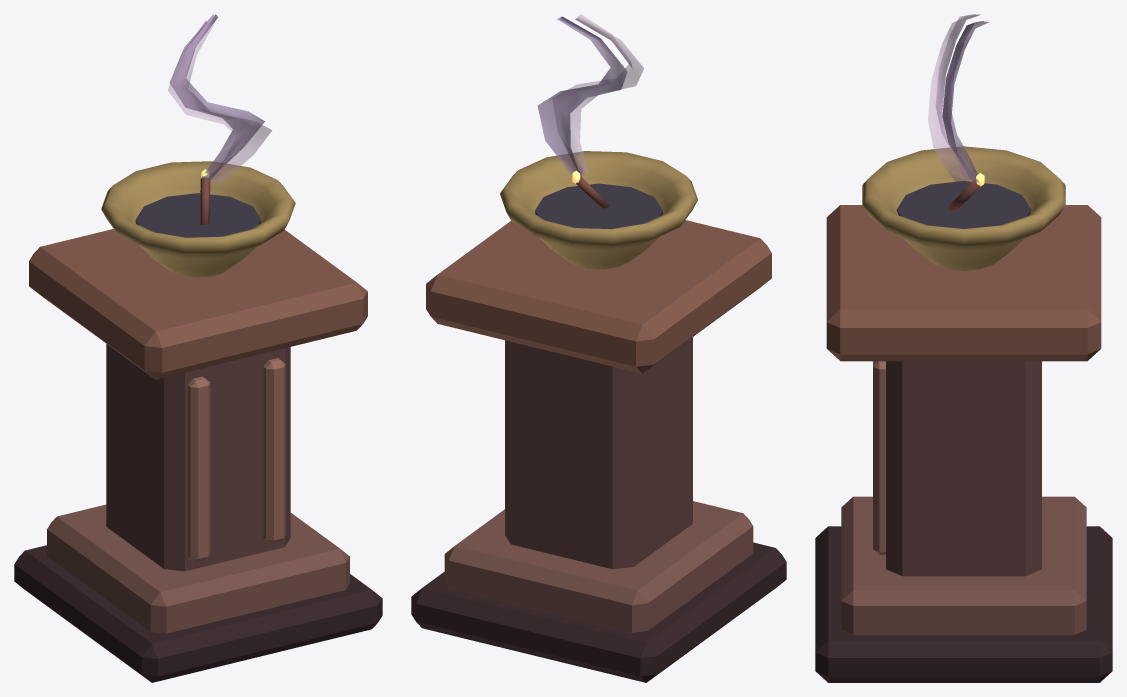
File: incense.glb
3 renders of one model, left to right at view 1: azimuth 30°, elevation 25°; view 2: azimuth 150°, elevation 25°; view 3: azimuth 270°, elevation 25°, orthographic. The views are drawn at different scales.
Visible parts, largest first — view 1: incense; view 2: incense; view 3: incense.
Part boxes in pixels (x1,y1,x2,y2): incense: (14,14,382,682); incense: (411,14,786,682); incense: (815,14,1112,682).
Bounding box in the file's own units: 0.345 × 0.793 × 0.345.
